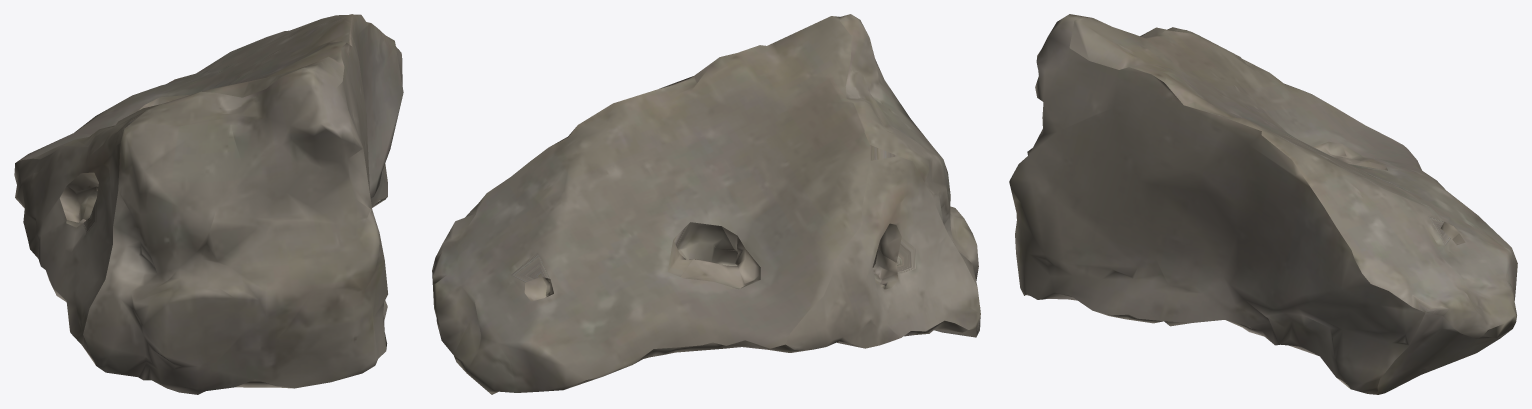
Rendered from moon_rock_c.glb.
3 views of the same model, side by side, from view 1: azimuth 30°, elevation 25°; view 2: azimuth 150°, elevation 25°; view 3: azimuth 270°, elevation 25° (orthographic). The views are drawn at different scales.
Parts seen in each view (by area): view 1: moon_rock_06_LOD0; view 2: moon_rock_06_LOD0; view 3: moon_rock_06_LOD0.
Part boxes in pixels (x1,y1,x2,y2): moon_rock_06_LOD0: (14, 14, 403, 394); moon_rock_06_LOD0: (432, 14, 980, 394); moon_rock_06_LOD0: (1009, 14, 1517, 394).
Size of the model in its own units: 0.9337 by 0.6 by 1.
Materials: 1 (1 with a texture image).
